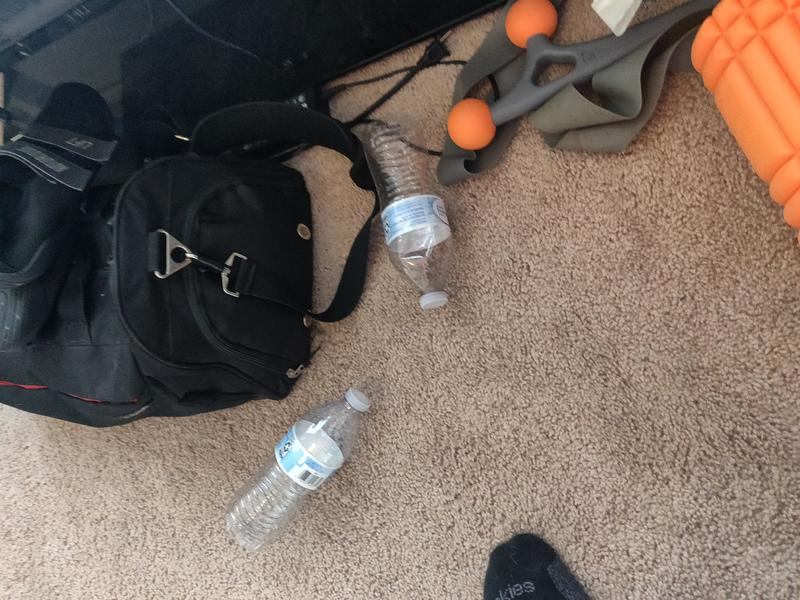bottle: (225, 388, 372, 548), (363, 116, 453, 311)
